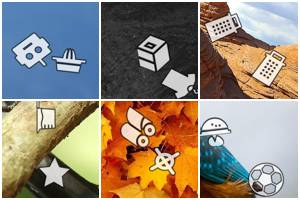thing: (117, 108, 161, 148), (244, 157, 288, 197), (11, 29, 51, 72), (31, 154, 77, 191), (252, 44, 288, 90), (203, 10, 246, 45), (199, 114, 237, 153), (138, 32, 171, 73), (51, 44, 88, 79), (145, 145, 182, 180), (162, 68, 198, 99), (32, 102, 63, 133)
